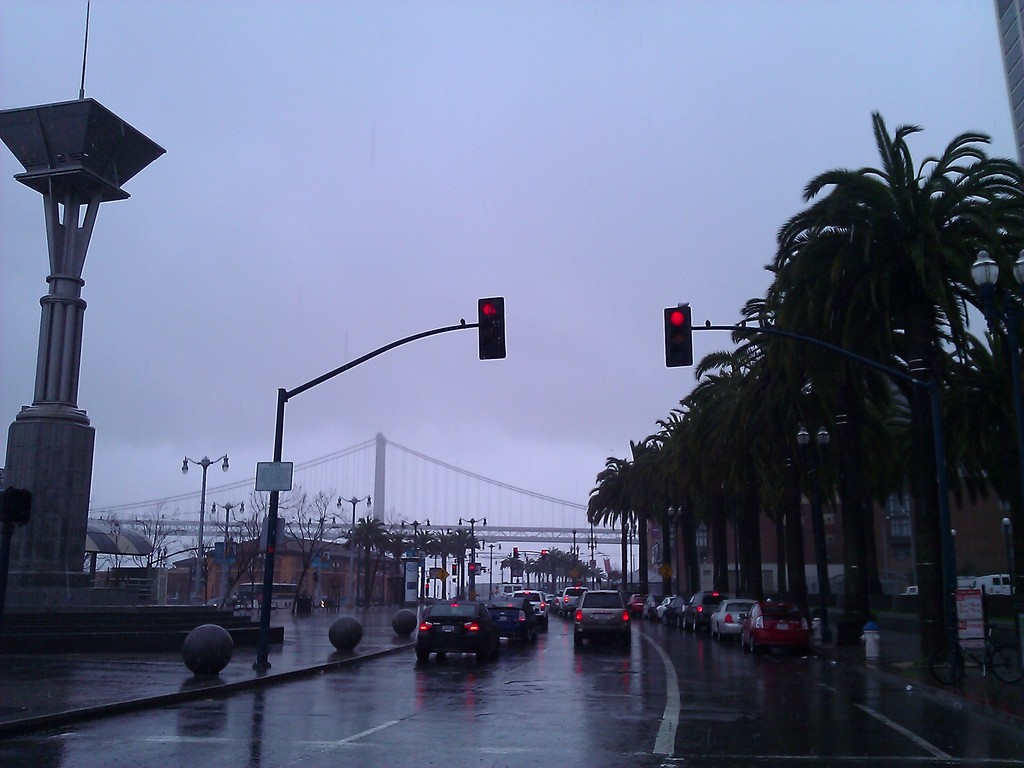red_light: (664, 306, 691, 366), (480, 300, 503, 358)
